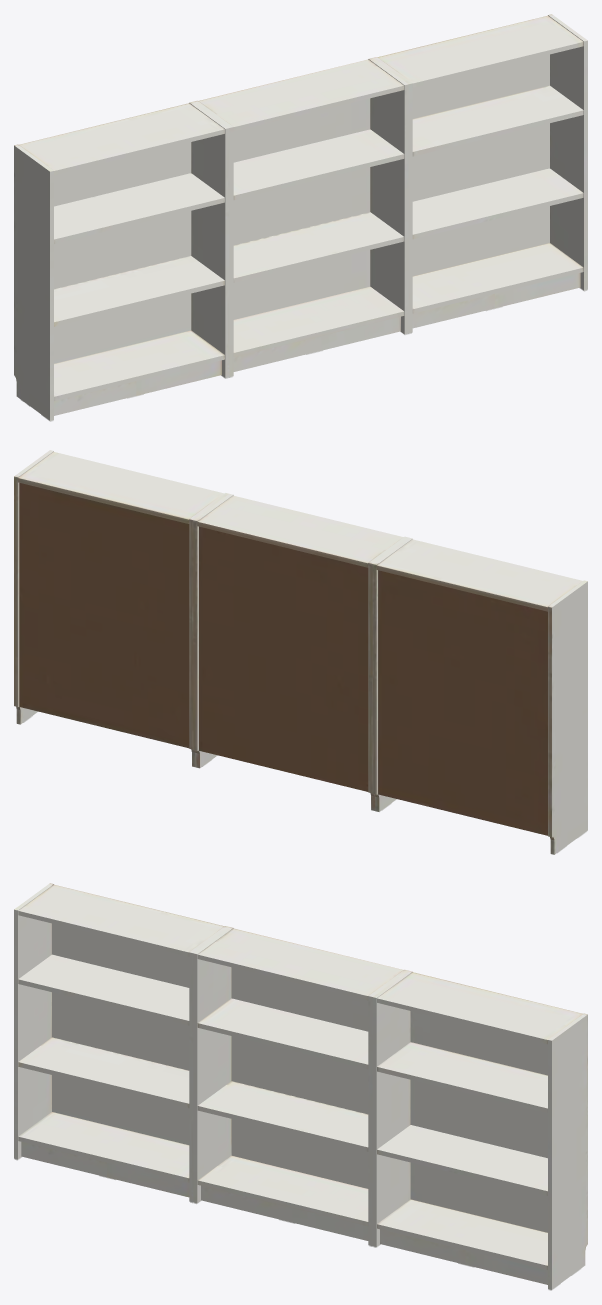
3 views of the same model, one above another, from view 1: azimuth 30°, elevation 25°; view 2: azimuth 150°, elevation 25°; view 3: azimuth 330°, elevation 25° (orthographic).
Visible parts, largest first — view 1: 09017826_Bookcase:1; view 2: 09017826_Bookcase:1; view 3: 09017826_Bookcase:1.
Boxes of the visible parts, x1,y1,x2,y2 form: 09017826_Bookcase:1: [14, 14, 587, 420]; 09017826_Bookcase:1: [14, 450, 587, 854]; 09017826_Bookcase:1: [14, 883, 587, 1289].
Bounding box in the file's own units: 2.39 × 1.06 × 0.2784.
2 materials, 2 textured.
